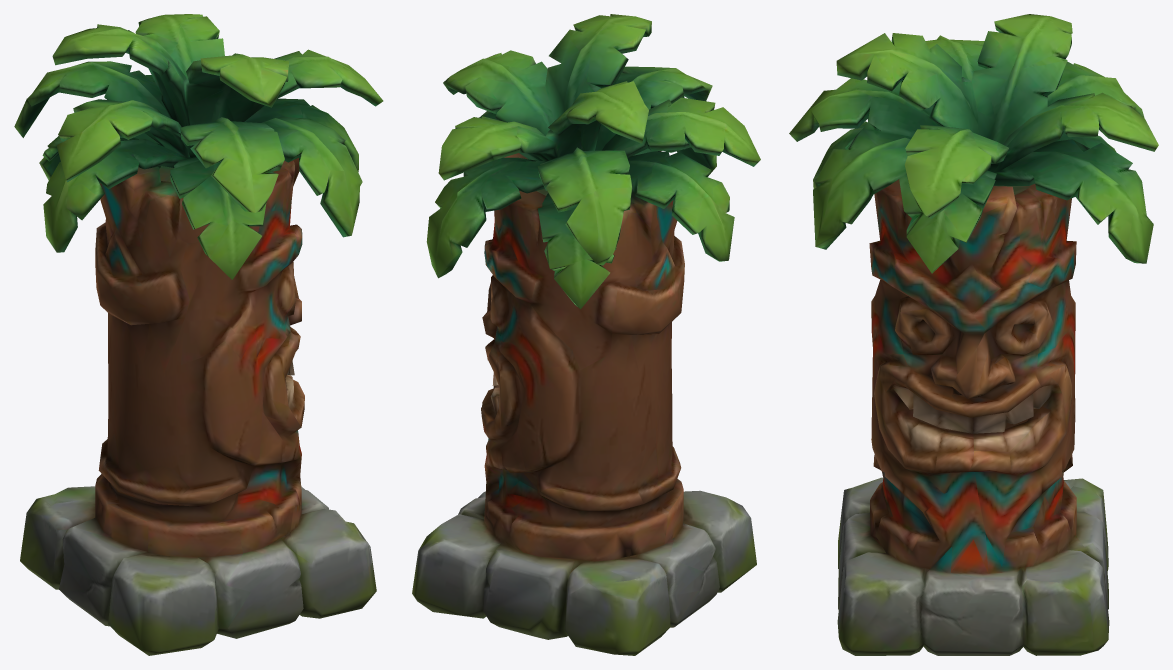
The model's file is tiki.glb.
3 views of the same model, side by side, from view 1: azimuth 30°, elevation 25°; view 2: azimuth 150°, elevation 25°; view 3: azimuth 270°, elevation 25° (orthographic). The views are drawn at different scales.
Parts seen in each view (by area): view 1: tripo_node_1e6b6dfa-6dd3-4f41-a106-b1f35b7b36d5; view 2: tripo_node_1e6b6dfa-6dd3-4f41-a106-b1f35b7b36d5; view 3: tripo_node_1e6b6dfa-6dd3-4f41-a106-b1f35b7b36d5.
Boxes of the visible parts, x1=… form: tripo_node_1e6b6dfa-6dd3-4f41-a106-b1f35b7b36d5: x1=14, y1=14, x2=383, y2=655; tripo_node_1e6b6dfa-6dd3-4f41-a106-b1f35b7b36d5: x1=412, y1=14, x2=760, y2=655; tripo_node_1e6b6dfa-6dd3-4f41-a106-b1f35b7b36d5: x1=789, y1=14, x2=1158, y2=655.
Size of the model in its own units: 0.6023 by 1 by 0.6008.
Materials: 1 (1 with a texture image).
